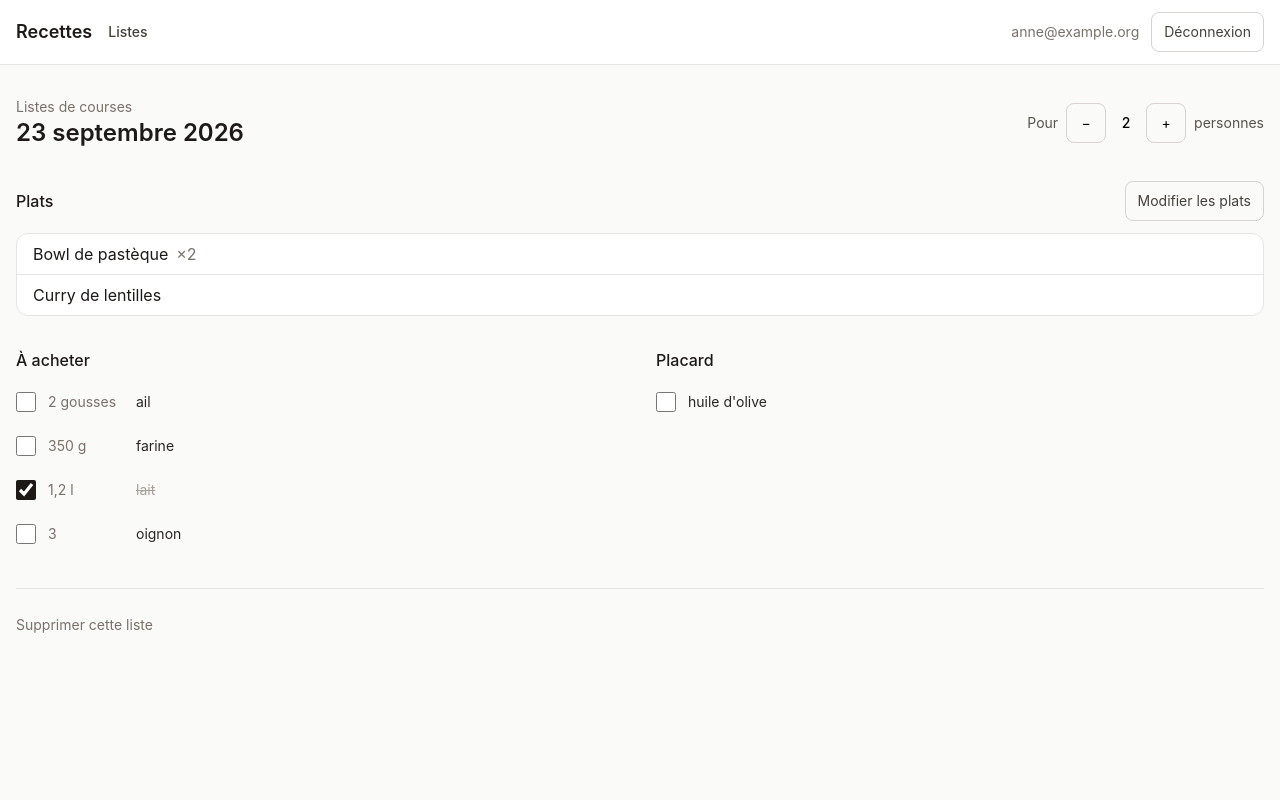
Test: listes de courses › cocher appelle l'API et l'état persiste après rechargement
Expected: the heading "23 septembre 2026" is shown, [16, 117, 244, 149]
Click the checkbox labelled "350 g farine" at (26,446), box [16, 436, 36, 456]
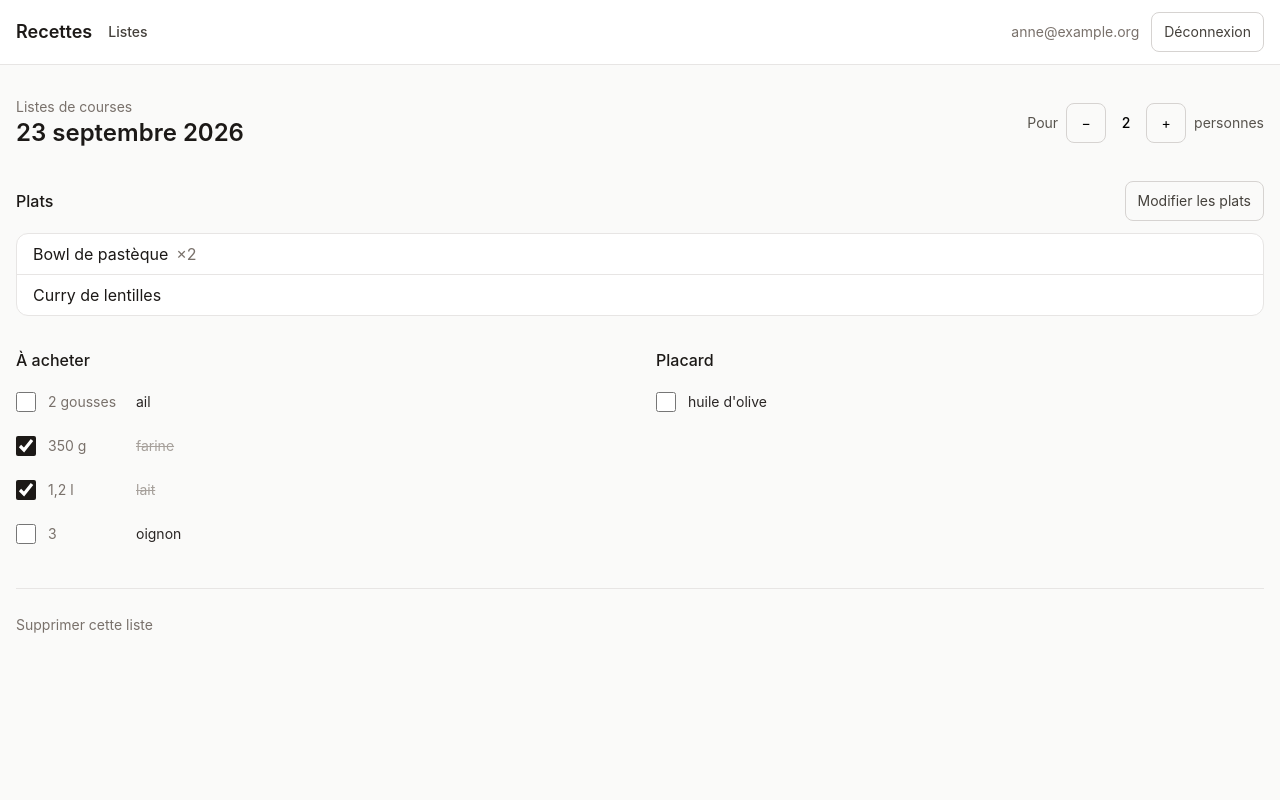
Expected: the checkbox labelled "1,2 l lait" is checked, [16, 480, 36, 500]
Result: the checkbox labelled "350 g farine" is checked at [16, 436, 36, 456]
